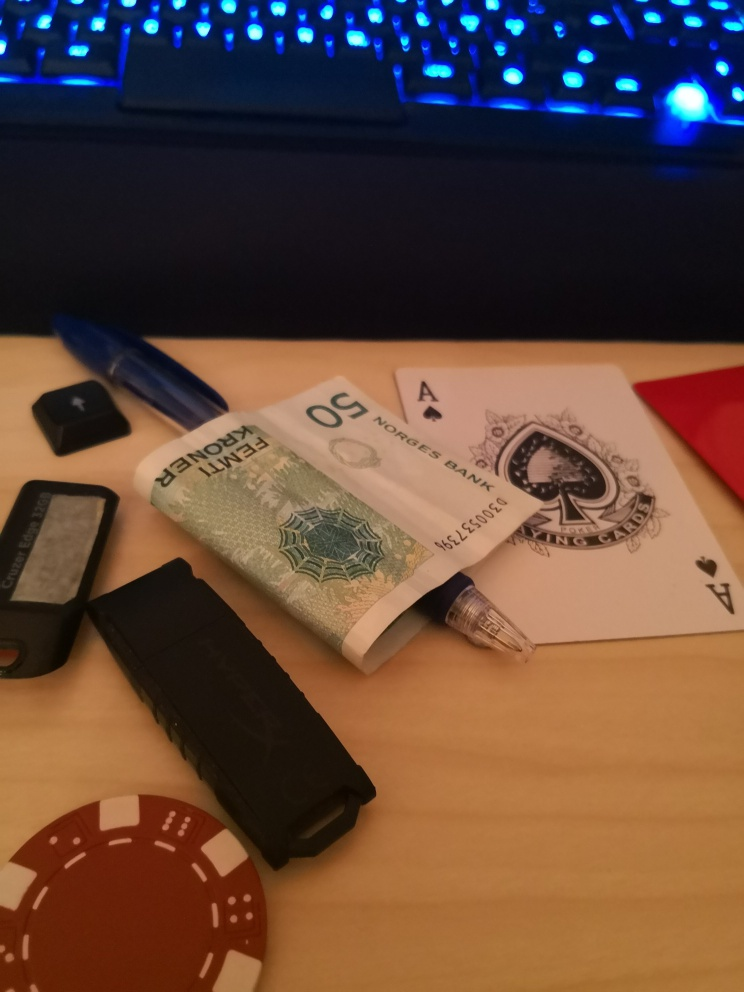ace: (392, 362, 743, 644)
